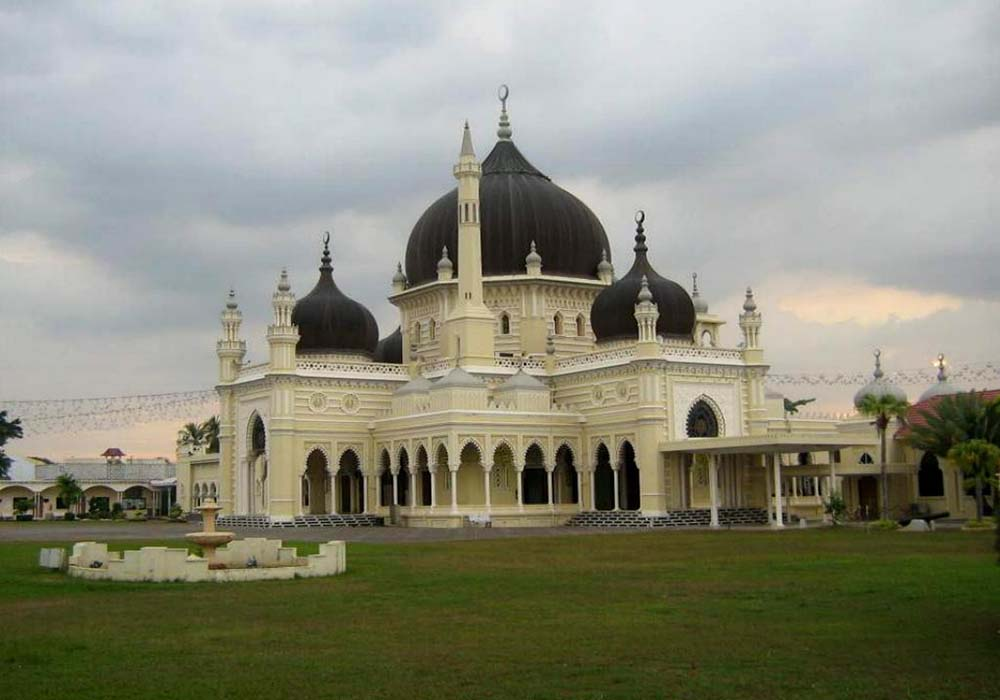Mosque: (219, 87, 756, 510)
